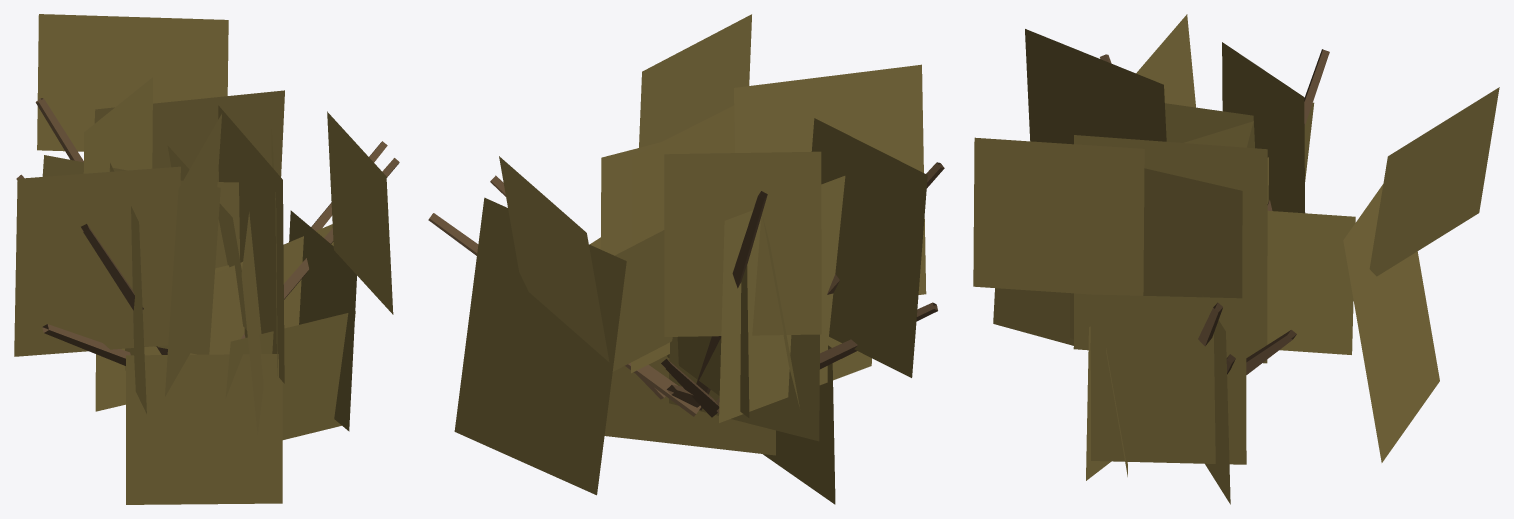
File: dry_scrub_bush_small.obj
3 views of the same model, side by side, from view 1: azimuth 30°, elevation 25°; view 2: azimuth 150°, elevation 25°; view 3: azimuth 270°, elevation 25° (orthographic). The views are drawn at different scales.
Parts seen in each view (by area): view 1: dry_scrub_bush_small; view 2: dry_scrub_bush_small; view 3: dry_scrub_bush_small.
Part boxes in pixels (left/top/right/bottom): dry_scrub_bush_small: left=14, top=14, right=399, bottom=504; dry_scrub_bush_small: left=428, top=14, right=944, bottom=504; dry_scrub_bush_small: left=973, top=14, right=1499, bottom=504.
Size of the model in its own units: 0.7325 by 0.6155 by 0.763.
